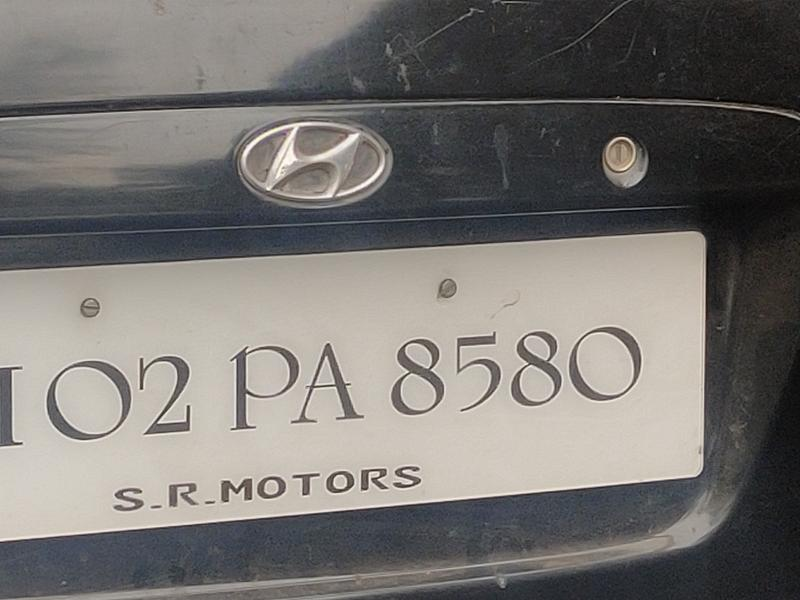license_plate: (1, 267, 699, 524)
